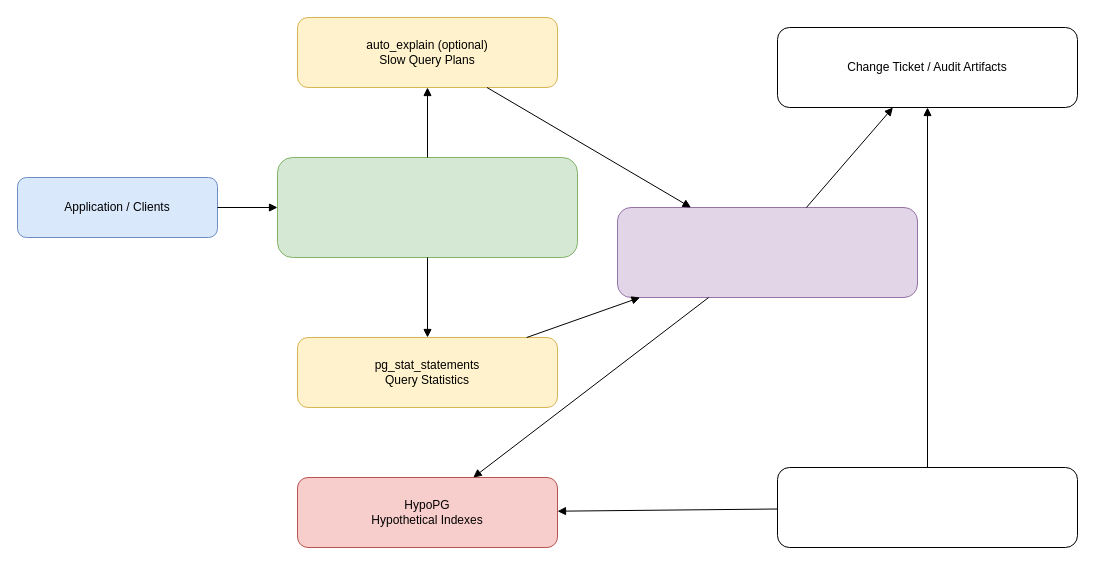
This 1095x565 diagram has some shape labels left out. Each missing label, with the centre of its shape:
"Aurora PostgreSQL Serverless Writer + Readers" belongs at [427,207].
"DBA / Operator Validation & Change Control" belongs at [927,507].
"DBA Scripts / Runbooks Index Candidate Generation" belongs at [767,252].
